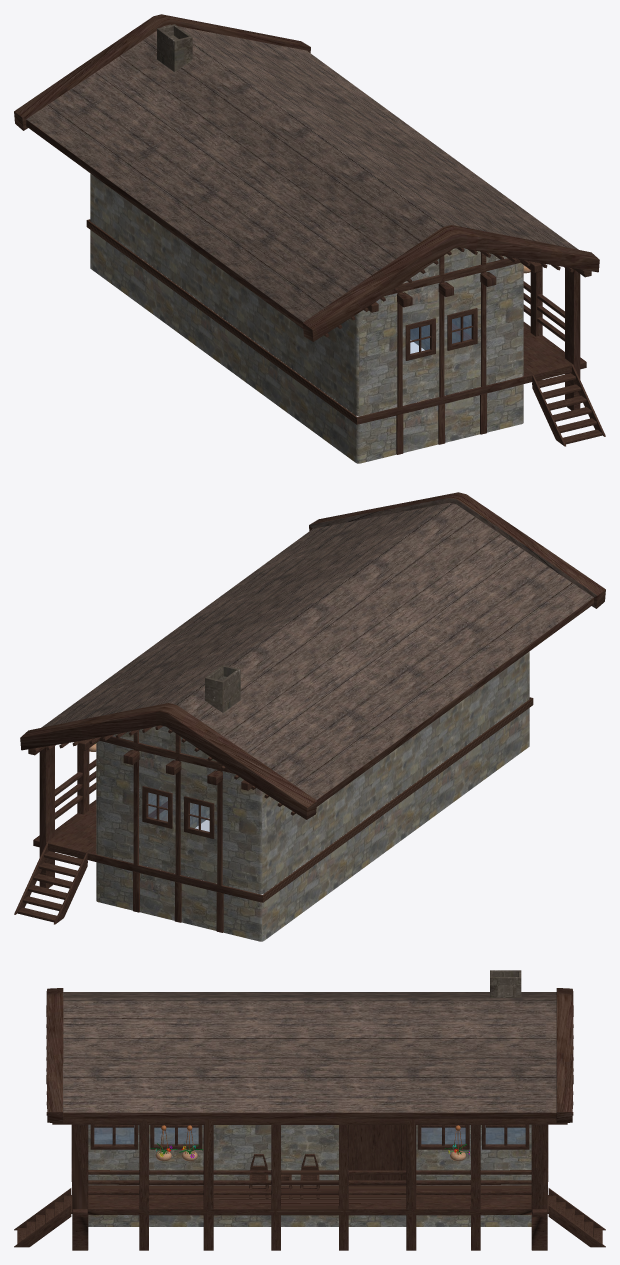
Rendered from forest_cabin_72521002.glb.
3 renders of one model, top to bottom at view 1: azimuth 30°, elevation 25°; view 2: azimuth 150°, elevation 25°; view 3: azimuth 270°, elevation 25°, orthographic. The views are drawn at different scales.
Parts seen in each view (by area): view 1: forest_cabin_72521002; view 2: forest_cabin_72521002; view 3: forest_cabin_72521002.
Boxes of the visible parts, x1=… form: forest_cabin_72521002: x1=14, y1=14, x2=605, y2=463; forest_cabin_72521002: x1=14, y1=492, x2=605, y2=941; forest_cabin_72521002: x1=14, y1=970, x2=605, y2=1250.
Size of the model in its own units: 9.62 by 7.41 by 19.11.
20 materials, 19 textured.
